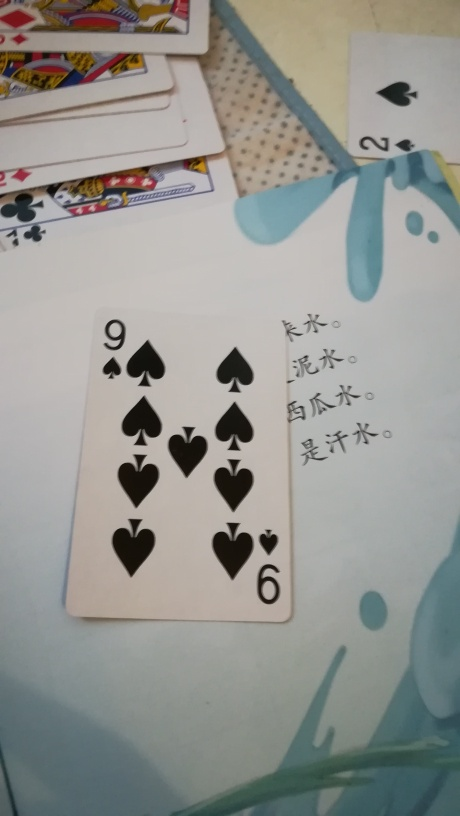ht 9: (59, 300, 301, 627)
